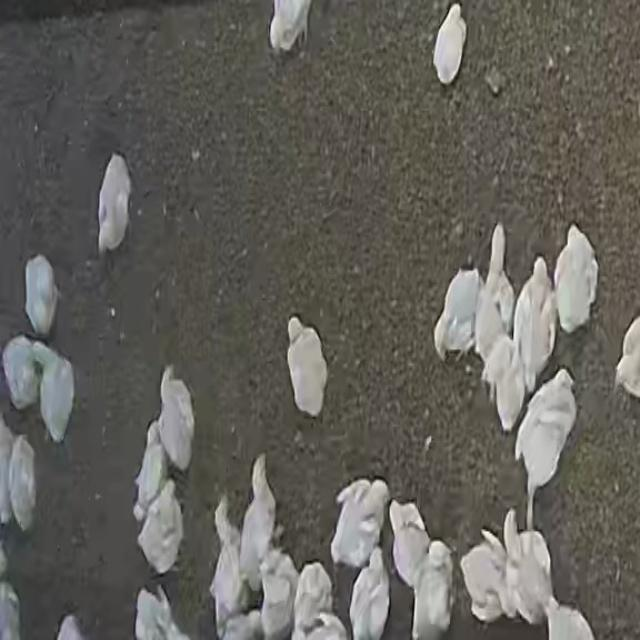chicken: (512, 373, 574, 493), (331, 478, 388, 570), (505, 510, 551, 623), (240, 455, 276, 584), (30, 341, 76, 441), (519, 256, 553, 387), (556, 224, 598, 330), (212, 508, 246, 634), (137, 481, 182, 575), (284, 317, 327, 414), (461, 536, 508, 624), (157, 365, 195, 471), (434, 276, 477, 359), (349, 549, 388, 640), (259, 550, 298, 640), (97, 154, 131, 255), (391, 500, 430, 588), (134, 427, 168, 521), (432, 1, 470, 84), (2, 334, 40, 410), (486, 221, 515, 319), (24, 255, 58, 338), (7, 436, 36, 531), (292, 561, 332, 628), (134, 588, 178, 640), (494, 352, 524, 428), (614, 312, 639, 398), (269, 3, 309, 56), (544, 600, 596, 640), (483, 337, 514, 391), (0, 416, 16, 520), (476, 292, 498, 360), (0, 582, 19, 640)
